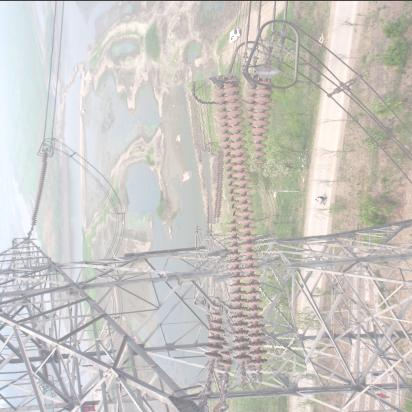insulator: (186, 73, 292, 385), (27, 152, 53, 231), (205, 150, 232, 223)
